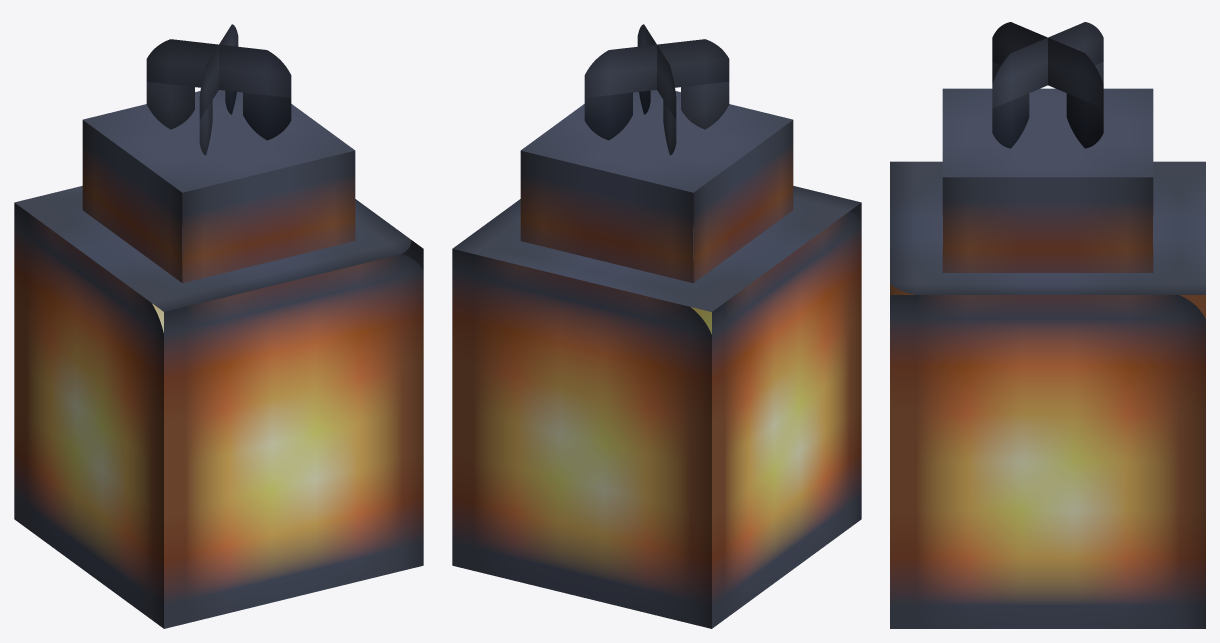
3 renders of one model, left to right at view 1: azimuth 30°, elevation 25°; view 2: azimuth 150°, elevation 25°; view 3: azimuth 270°, elevation 25°, orthographic. The views are drawn at different scales.
Parts seen in each view (by area): view 1: lantern; view 2: lantern; view 3: lantern.
Part boxes in pixels (bbox=[...]): lantern: bbox=[14, 24, 423, 628]; lantern: bbox=[452, 24, 861, 628]; lantern: bbox=[890, 22, 1205, 628].
Bounding box in the file's own units: 0.375 × 0.6875 × 0.375.
